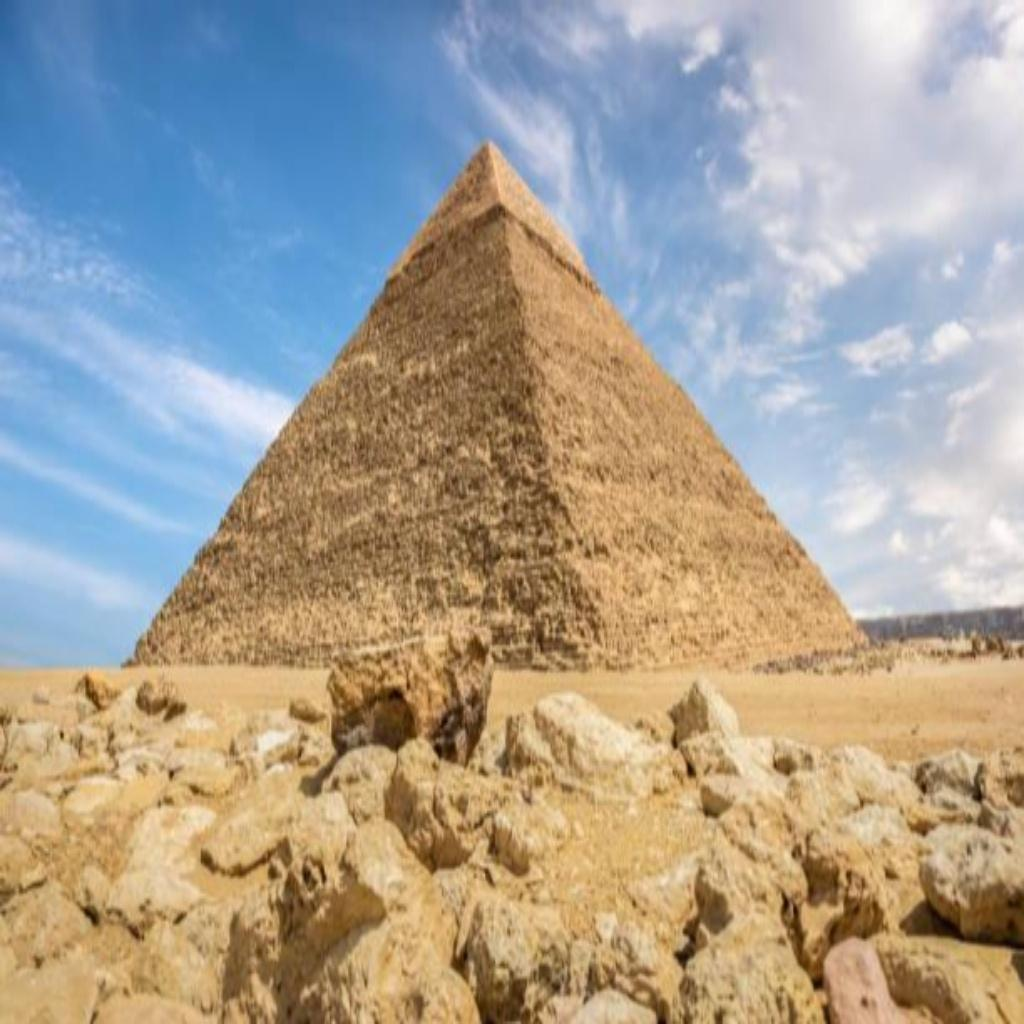Great Pyramids of Giza: (122, 133, 875, 673)
